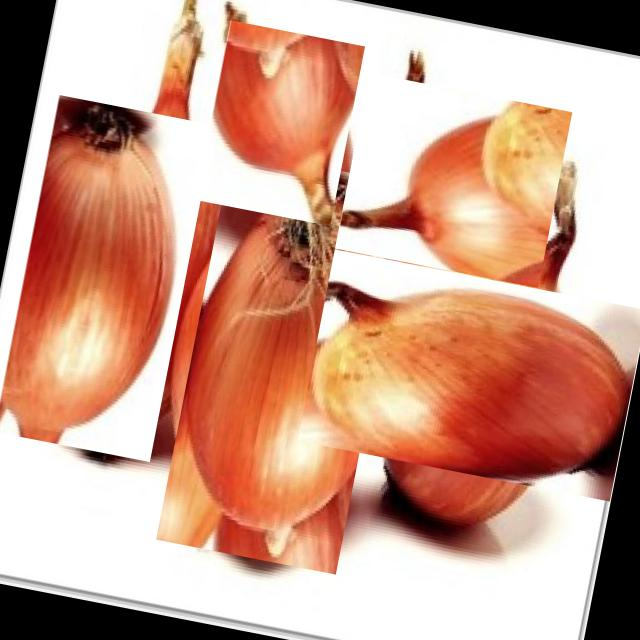Onion: (156, 150, 412, 576), (325, 221, 636, 532), (0, 93, 215, 462), (340, 67, 568, 294), (196, 20, 366, 226)
